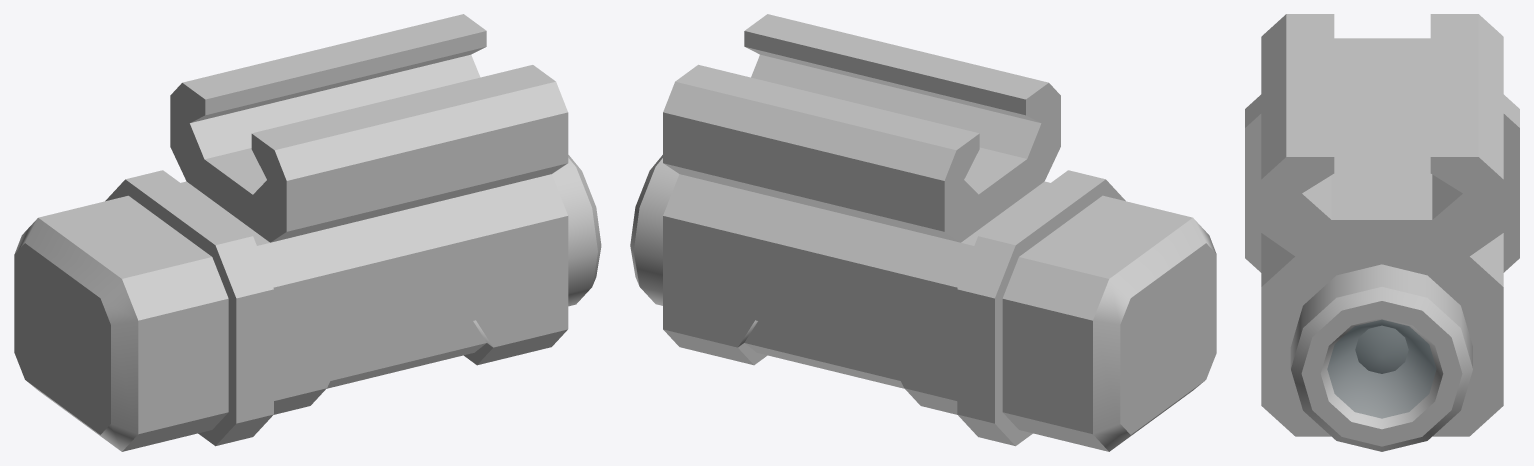
File: Tactical_Flashlight_04.fbx
3 renders of one model, left to right at view 1: azimuth 30°, elevation 25°; view 2: azimuth 150°, elevation 25°; view 3: azimuth 270°, elevation 25°, orthographic. The views are drawn at different scales.
Visible parts, largest first — view 1: Tactical_Flashlight_04; view 2: Tactical_Flashlight_04; view 3: Tactical_Flashlight_04.
Part boxes in pixels (x1,y1,x2,y2): Tactical_Flashlight_04: [14, 14, 601, 451]; Tactical_Flashlight_04: [630, 14, 1216, 451]; Tactical_Flashlight_04: [1245, 14, 1519, 451].
Size of the model in its own units: 9.69 by 5.24 by 4.43.
